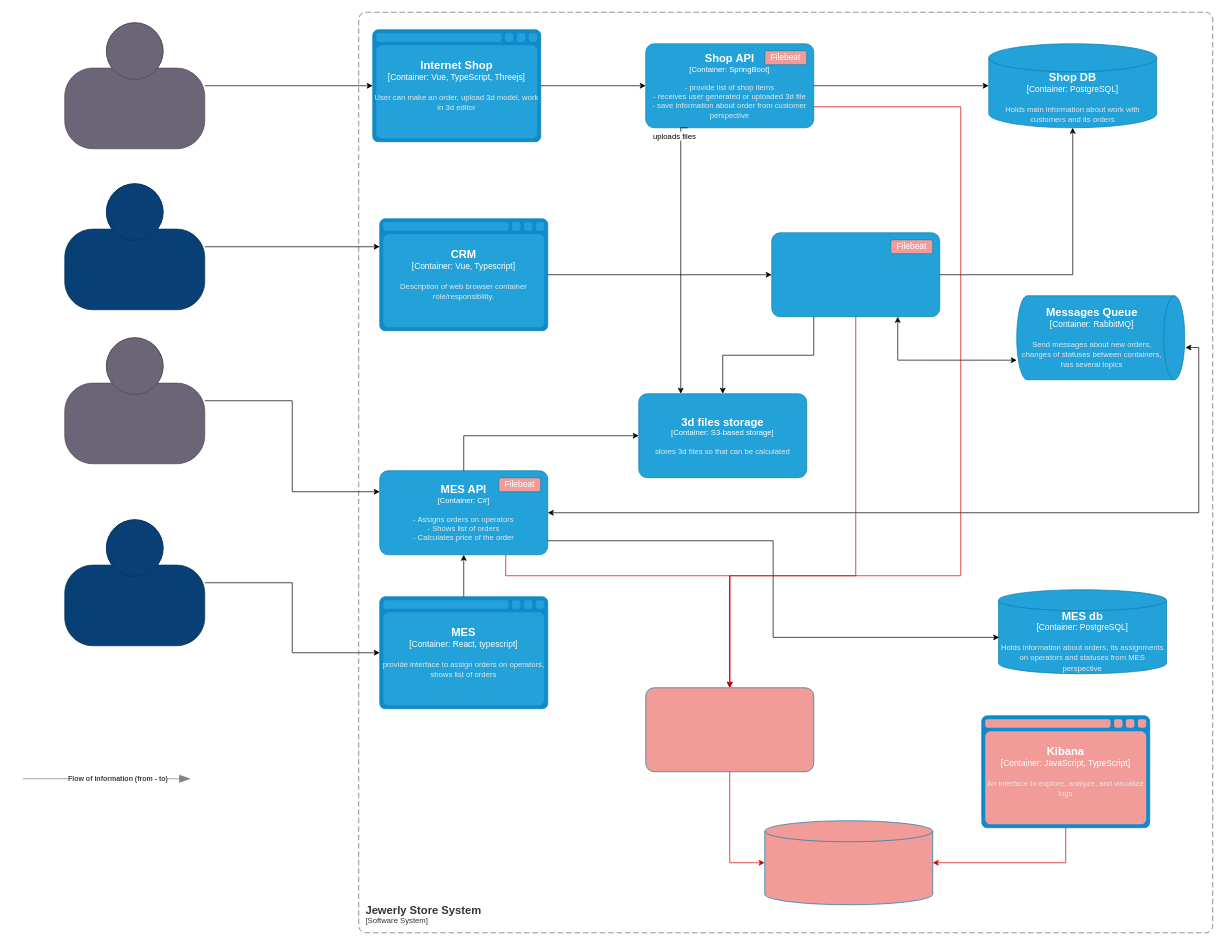
This 1225x945 diagram has some shape labels left out. The shapes that lost their labels are listed below. From the top down, each one's box as (x1, y1, x2, y2) in pixels, then its label:
(64, 22, 205, 149): Customer [Person] Description of external person.
(64, 183, 205, 310): Seller [Person] Operates with order, confirms manufacturing for the user
(771, 232, 940, 317): CRM API [Container: SpringBoot] Description of container role/responsibility.
(64, 337, 205, 464): API user [Person] Description of external person.
(64, 519, 205, 646): Operator [Person] Takes order in work, manufactures jewerly
(645, 687, 814, 772): Logstash [Container: JRuby] Collects, transforms and enriches logs
(764, 820, 933, 905): Elasticsearch [Container: Java] Search and analytics engine
